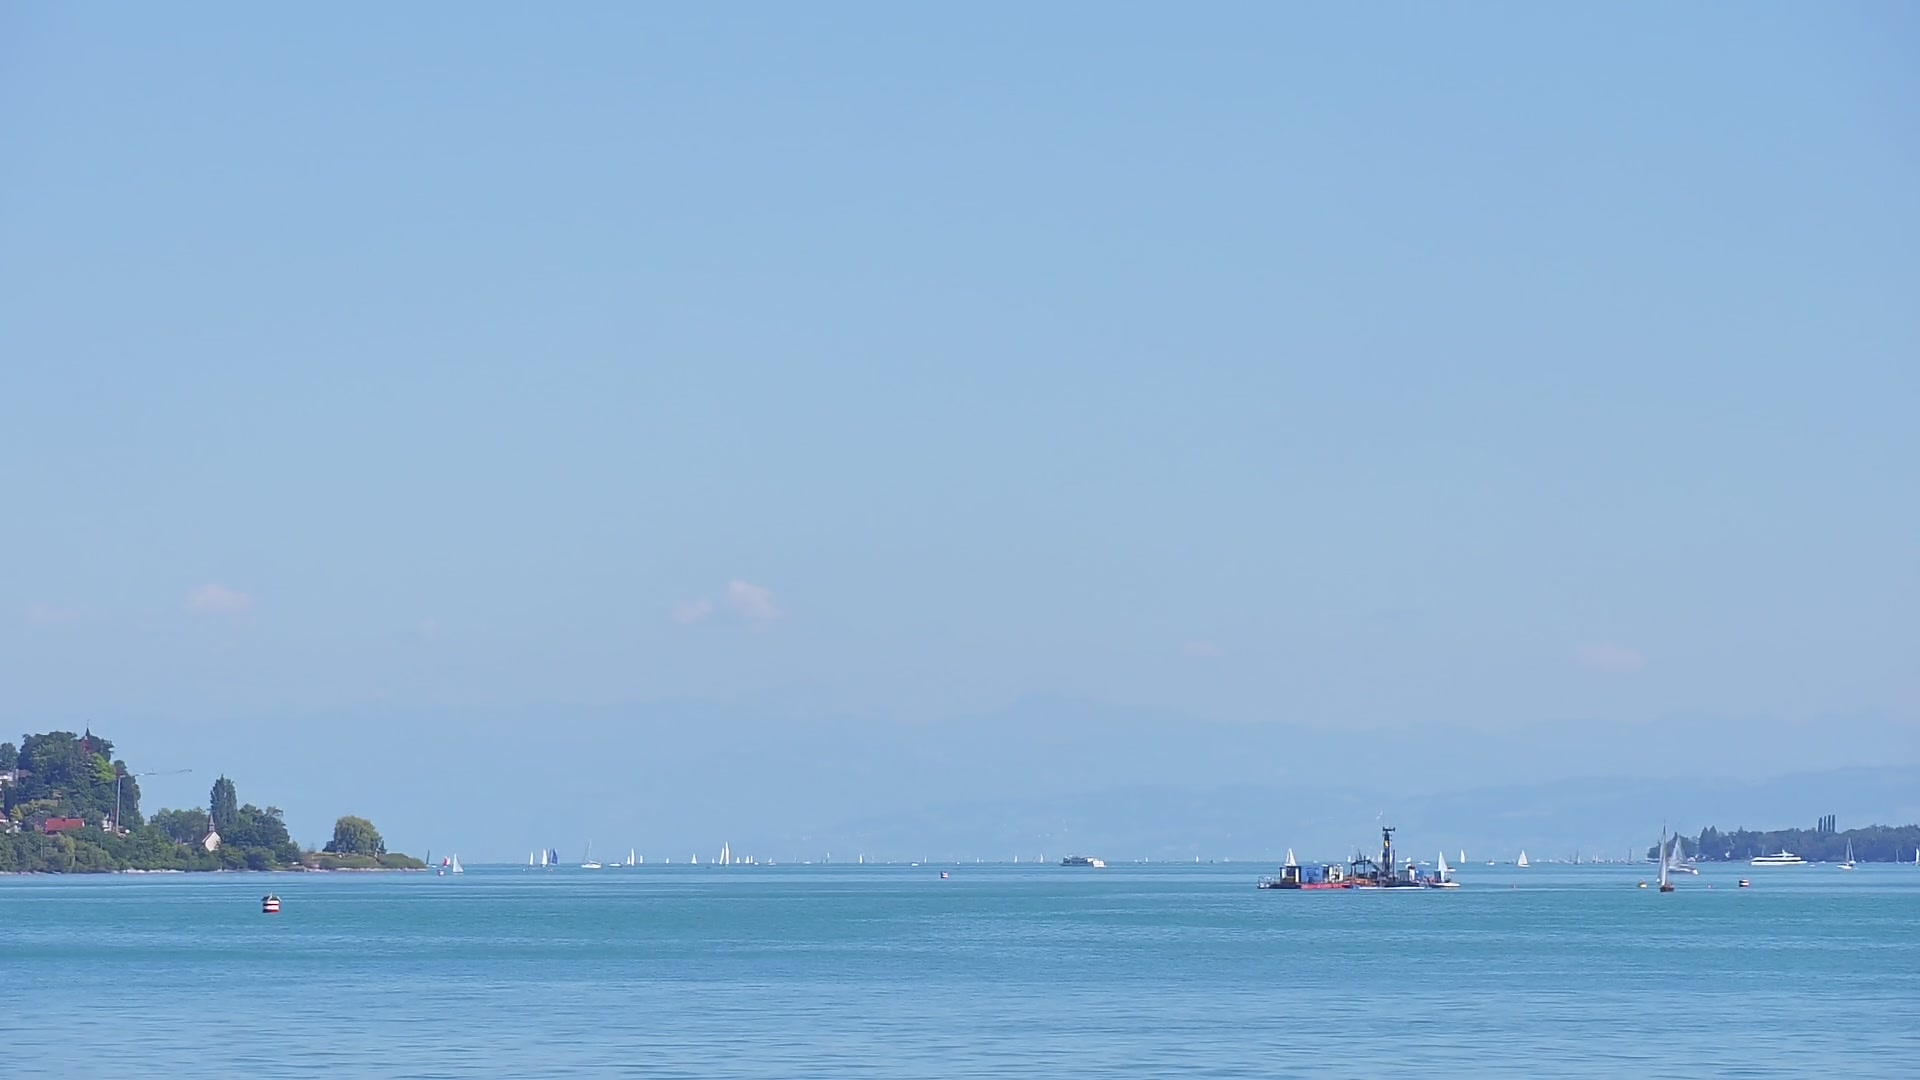sea: (1665, 831, 1698, 876), (1655, 819, 1675, 893), (1749, 847, 1808, 866), (1058, 855, 1105, 868), (580, 840, 603, 868), (1435, 851, 1456, 873), (717, 841, 731, 866), (1844, 837, 1855, 865), (1283, 847, 1298, 866), (452, 853, 464, 874), (1516, 849, 1530, 868), (425, 849, 436, 868), (547, 847, 558, 866), (541, 848, 549, 868), (1912, 847, 1920, 866), (1575, 848, 1582, 865), (440, 855, 450, 868), (1416, 858, 1431, 866), (1836, 862, 1850, 870), (1626, 847, 1633, 864), (529, 851, 535, 866), (630, 847, 636, 866), (1460, 848, 1466, 864), (691, 852, 698, 865), (766, 857, 775, 866), (607, 861, 622, 866), (625, 855, 632, 865), (1485, 858, 1495, 865), (909, 861, 919, 866), (858, 853, 864, 864), (1039, 853, 1044, 864), (1224, 856, 1232, 862), (744, 855, 749, 862), (750, 855, 754, 864), (640, 855, 644, 864), (665, 857, 670, 864), (735, 856, 740, 862), (923, 855, 927, 862), (1014, 855, 1018, 862), (1195, 855, 1199, 862), (1145, 856, 1149, 862), (712, 857, 715, 864)
